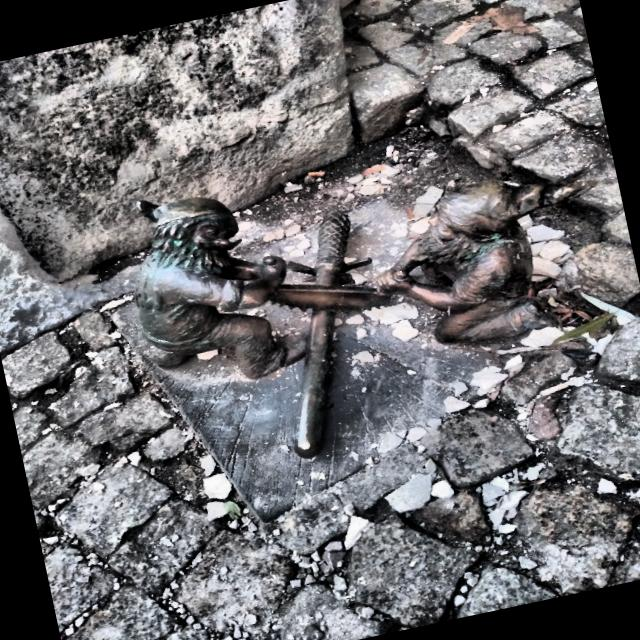Wyrostek i Zadymek: (137, 181, 589, 457)
